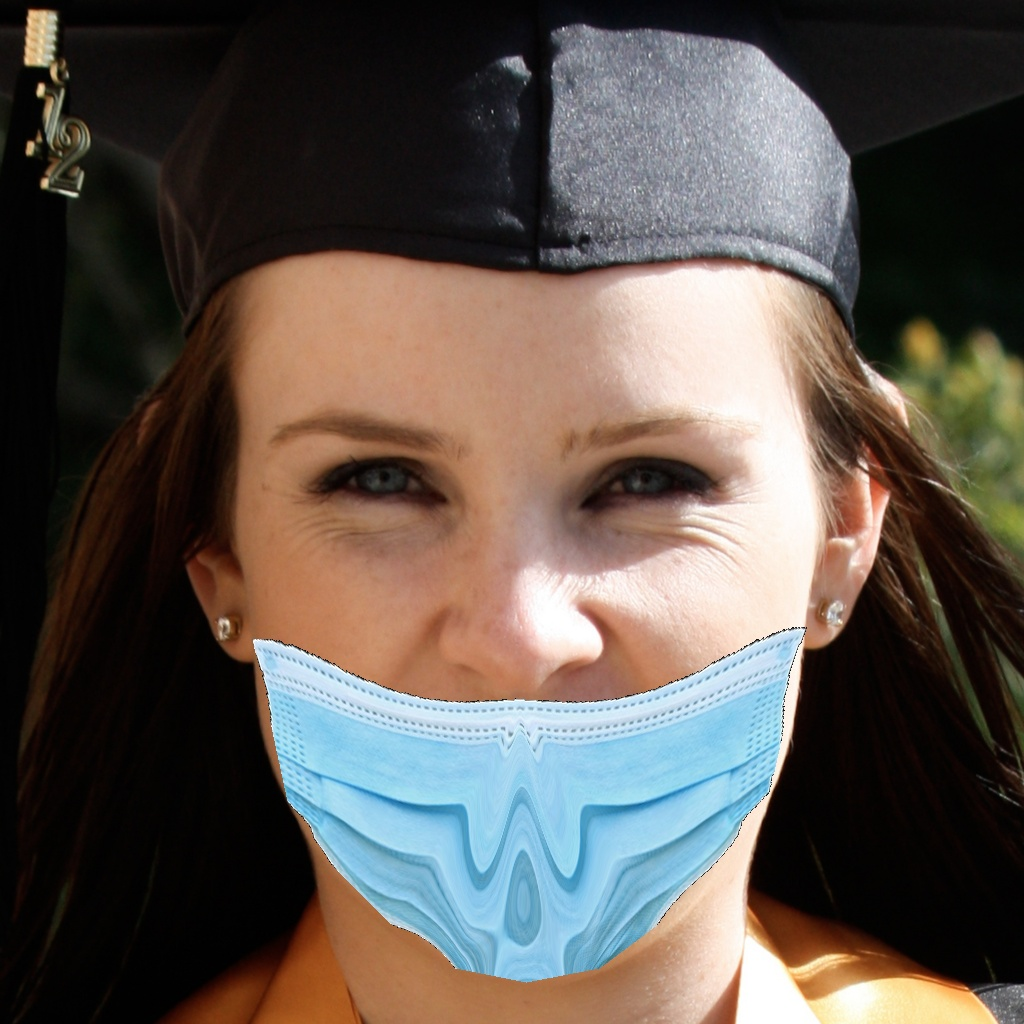mask_weared_incorrect: (211, 386, 851, 987)
